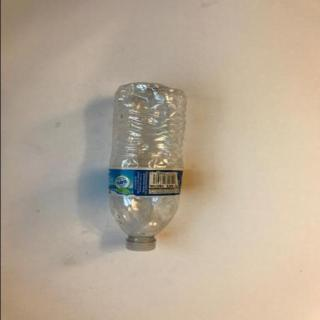Anorganik: (99, 79, 198, 255)
